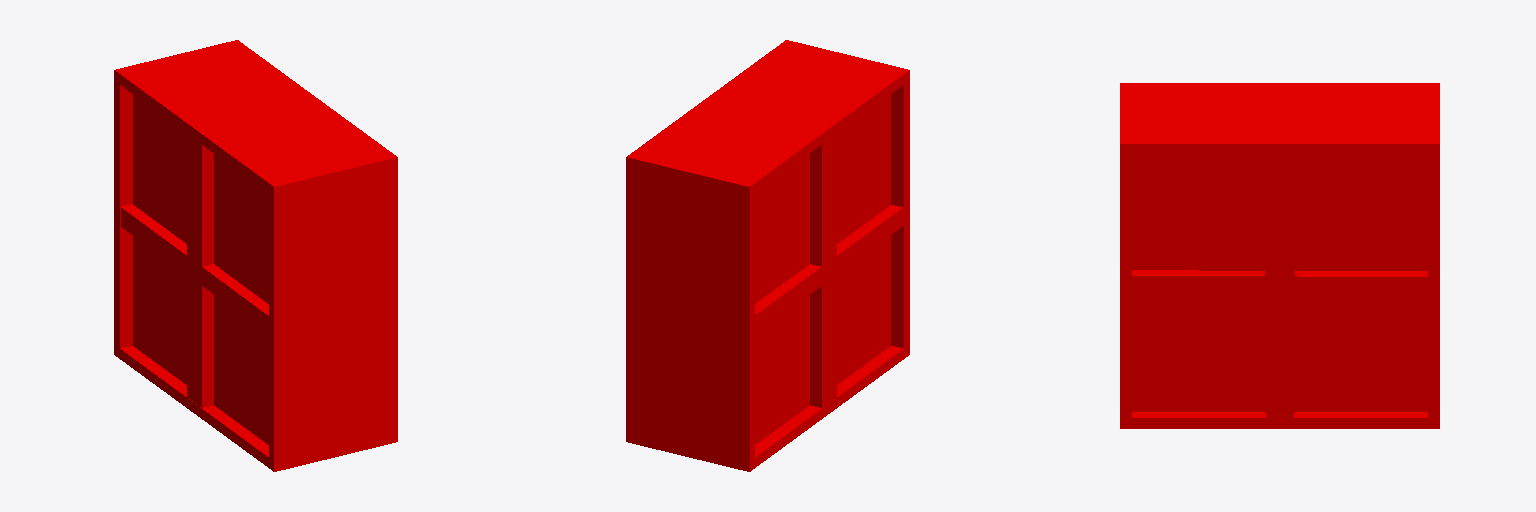
Rendered from window.obj.
3 renders of one model, left to right at view 1: azimuth 30°, elevation 25°; view 2: azimuth 150°, elevation 25°; view 3: azimuth 270°, elevation 25°, orthographic.
Visible parts, largest first — view 1: Cube.003_Cube.004; view 2: Cube.003_Cube.004; view 3: Cube.003_Cube.004.
Part boxes in pixels (x1,y1,x2,y2): Cube.003_Cube.004: (114, 40, 397, 471); Cube.003_Cube.004: (626, 40, 909, 471); Cube.003_Cube.004: (1120, 83, 1439, 428).
Size of the model in its own units: 0.1975 by 0.436 by 0.4441.